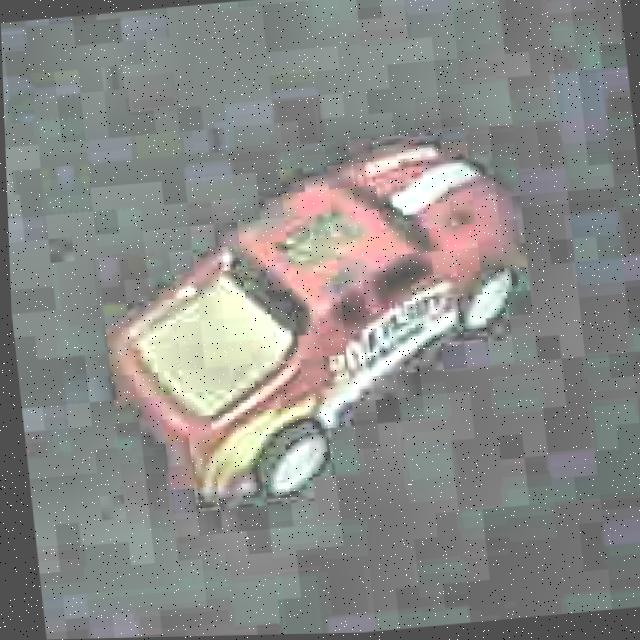car: (78, 125, 544, 525)
